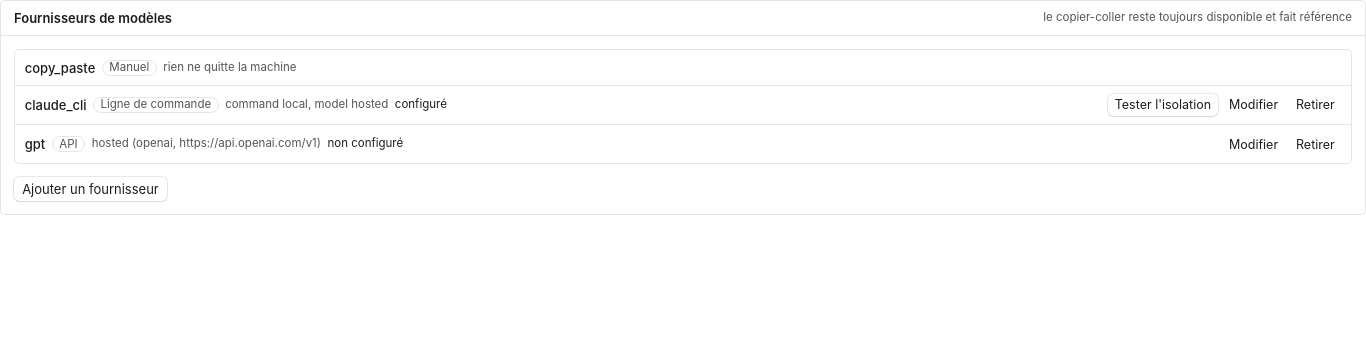
model providers › probes a command line provider and shows the isolation report
The width and height of the screenshot is (1366, 348).
Expected: the text "claude_cli" is shown, 25,96 -> 86,114
Click the button with aria-label "Tester claude_cli". click: (1163, 105)
box: 1108,94 -> 1218,116
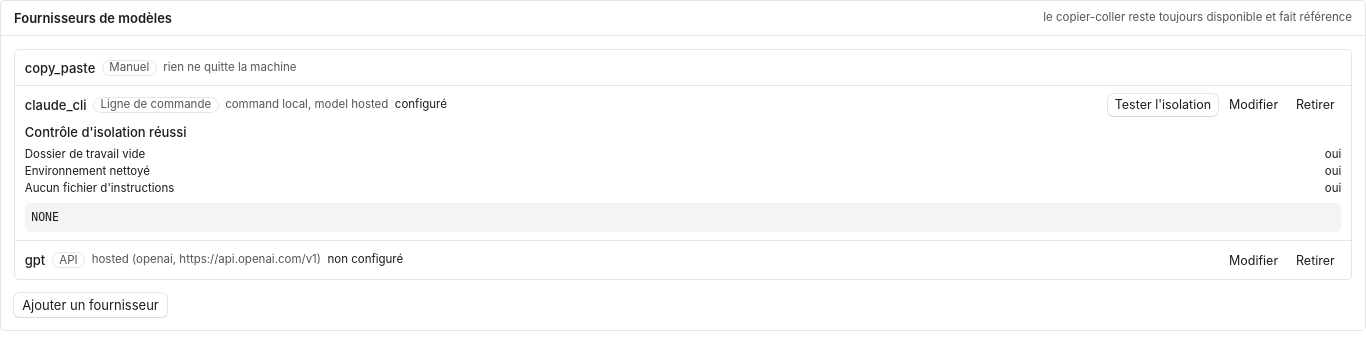
Now the text "Contrôle d'isolation réussi" is shown, box 25,124 -> 187,140
Now the text "NONE" is shown, box 25,204 -> 1341,232
